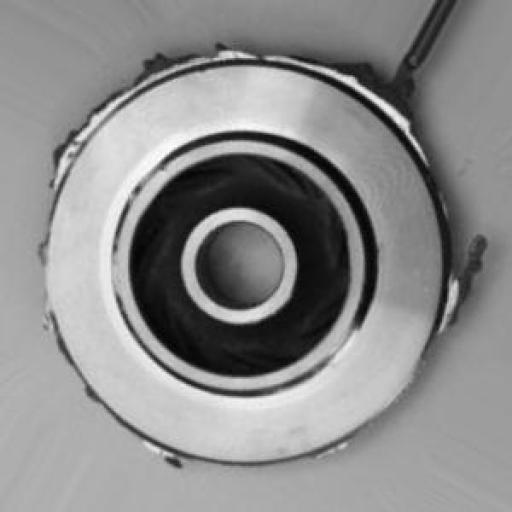defect: (21, 15, 494, 489)
